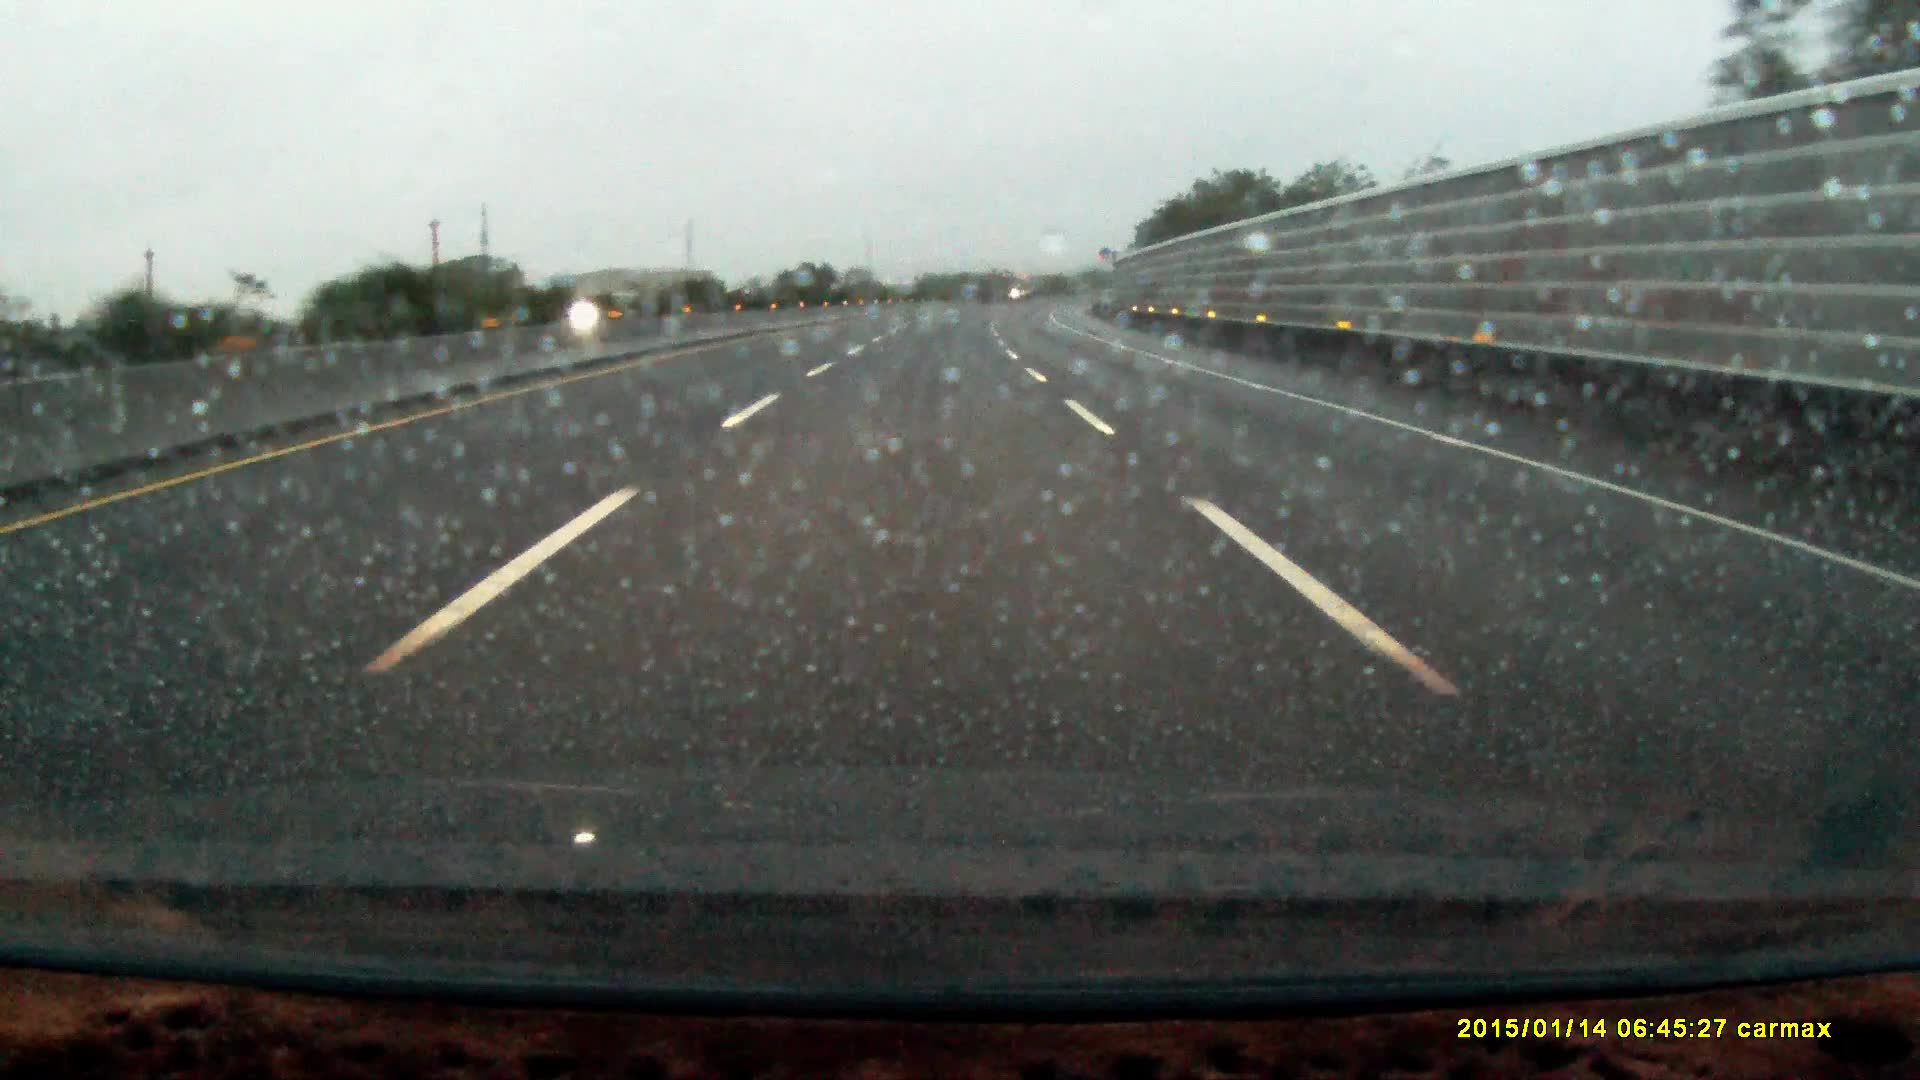vehicle: (571, 294, 645, 320)
